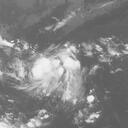cyclone: (26, 46, 85, 99)
